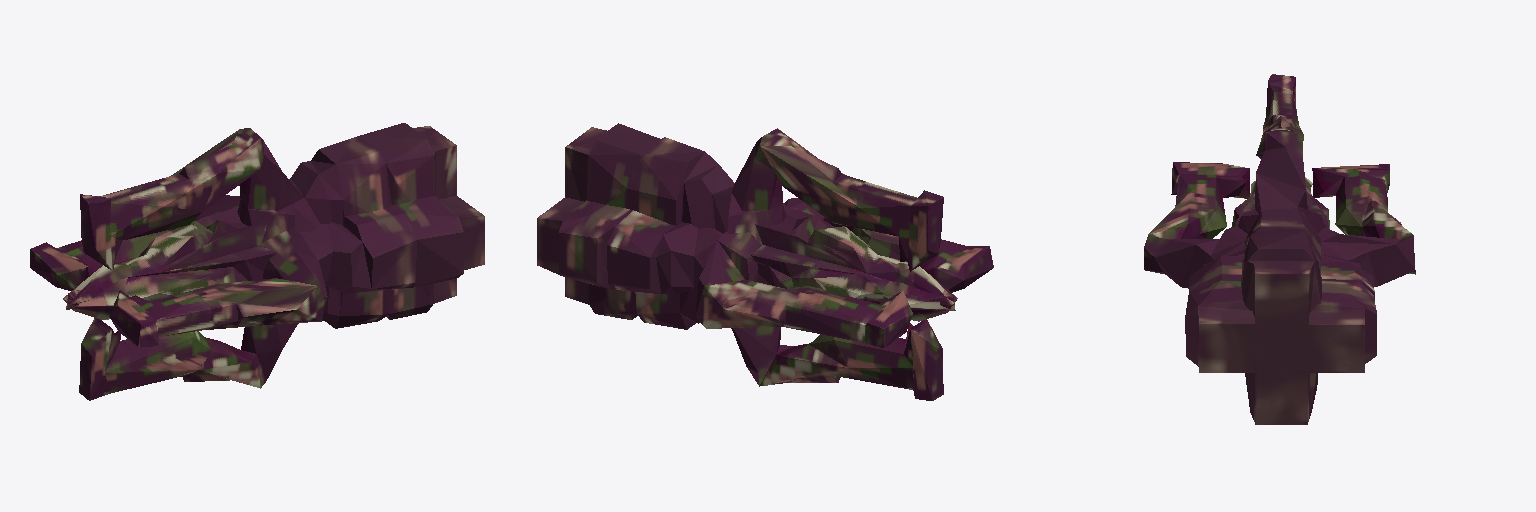
The picture shows the model from 3 angles: view 1: azimuth 30°, elevation 25°; view 2: azimuth 150°, elevation 25°; view 3: azimuth 270°, elevation 25°; orthographic projection.
Visible parts, largest first — view 1: unknown; view 2: unknown; view 3: unknown.
Boxes of the visible parts, x1=… form: unknown: x1=30, y1=123, x2=484, y2=400; unknown: x1=537, y1=123, x2=993, y2=400; unknown: x1=1144, y1=74, x2=1415, y2=424.
Bounding box in the file's own units: 0.4934 × 0.308 × 0.308.
1 materials, 1 textured.